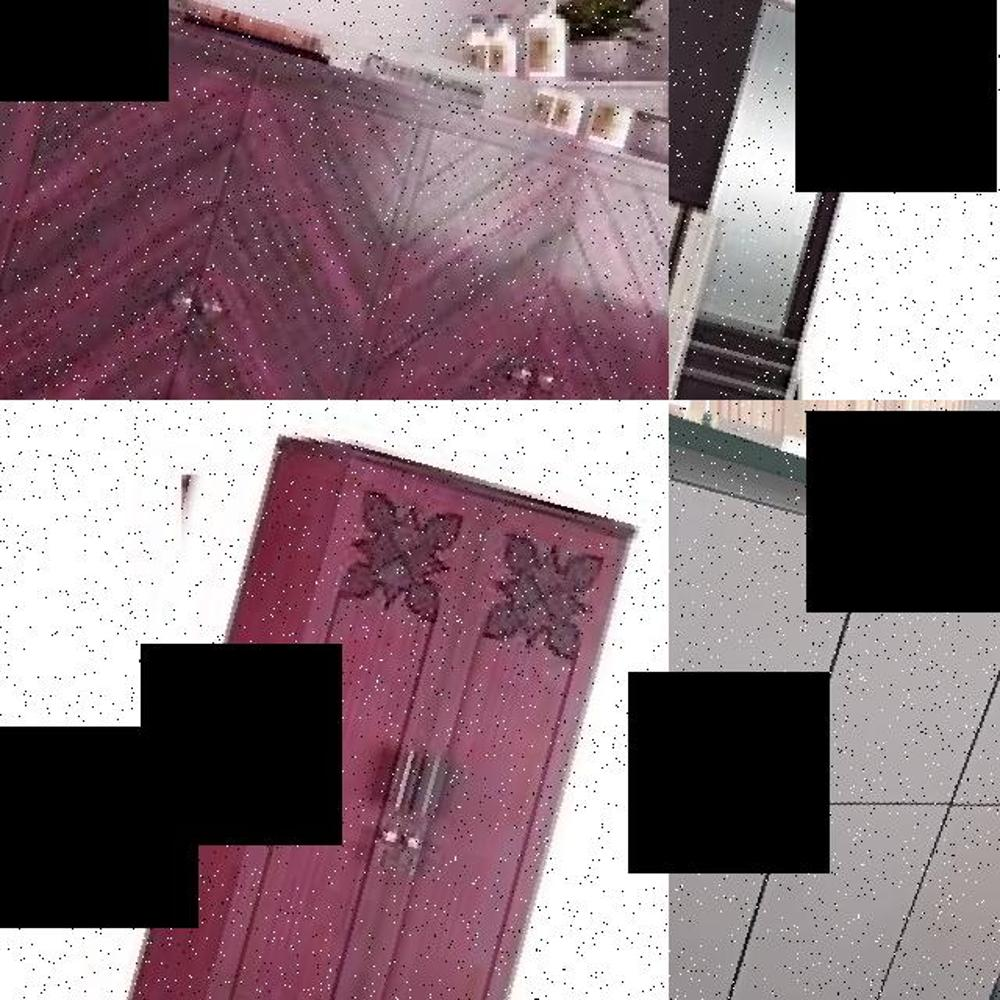cabinet: (53, 400, 669, 1000), (0, 0, 669, 400), (669, 415, 1000, 1000), (669, 0, 927, 400)
